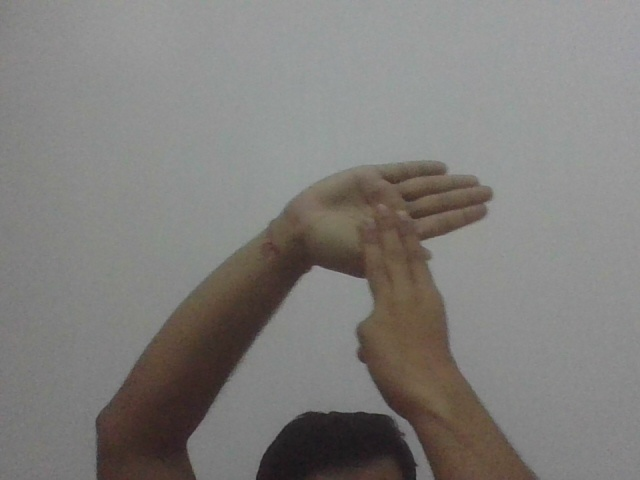M: (294, 160, 499, 326)
